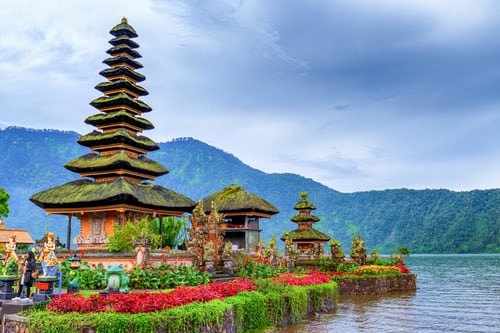Temple: (45, 15, 194, 244), (284, 193, 331, 266)
